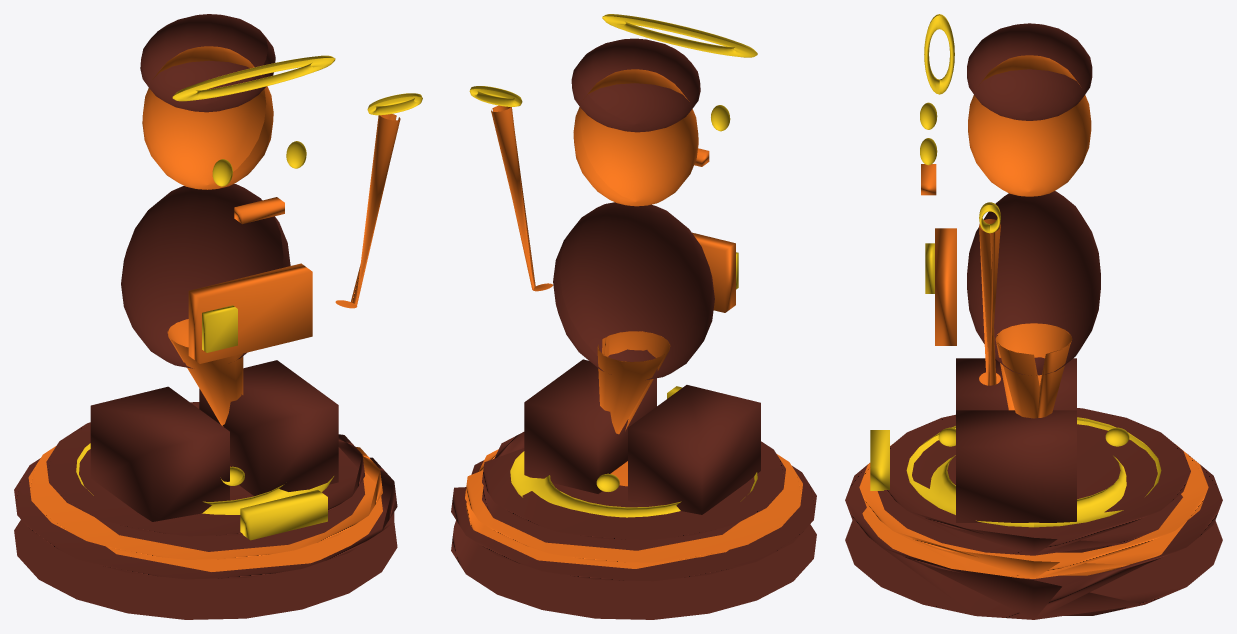
The model's file is hotwired.glb.
3 views of the same model, side by side, from view 1: azimuth 30°, elevation 25°; view 2: azimuth 150°, elevation 25°; view 3: azimuth 270°, elevation 25° (orthographic). The views are drawn at different scales.
Visible parts, largest first — view 1: hotwired_#5B2217, hotwired_#F97316, hotwired_#FACC15; view 2: hotwired_#5B2217, hotwired_#F97316, hotwired_#FACC15; view 3: hotwired_#5B2217, hotwired_#F97316, hotwired_#FACC15.
Part boxes in pixels (bbox=[...]): hotwired_#5B2217: bbox=[14, 14, 397, 619]; hotwired_#F97316: bbox=[28, 46, 400, 571]; hotwired_#FACC15: bbox=[76, 55, 422, 540]; hotwired_#5B2217: bbox=[451, 38, 816, 619]; hotwired_#F97316: bbox=[465, 69, 802, 568]; hotwired_#FACC15: bbox=[469, 14, 757, 517]; hotwired_#5B2217: bbox=[845, 23, 1222, 619]; hotwired_#F97316: bbox=[859, 55, 1208, 578]; hotwired_#FACC15: bbox=[870, 14, 1161, 527].
Size of the model in its own units: 1.86 by 2.55 by 1.72.
